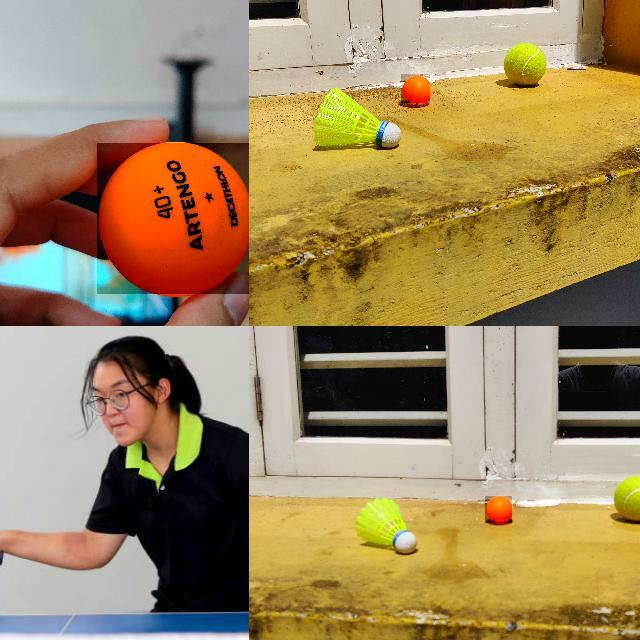ping-pong-ball: (96, 143, 248, 296), (401, 74, 431, 104), (485, 496, 513, 524)
